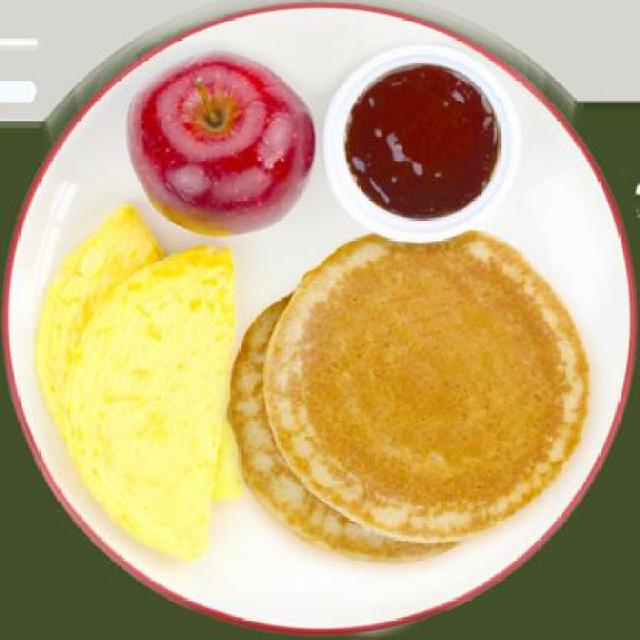omelette: (26, 197, 249, 568)
pancakes: (237, 226, 589, 566)
